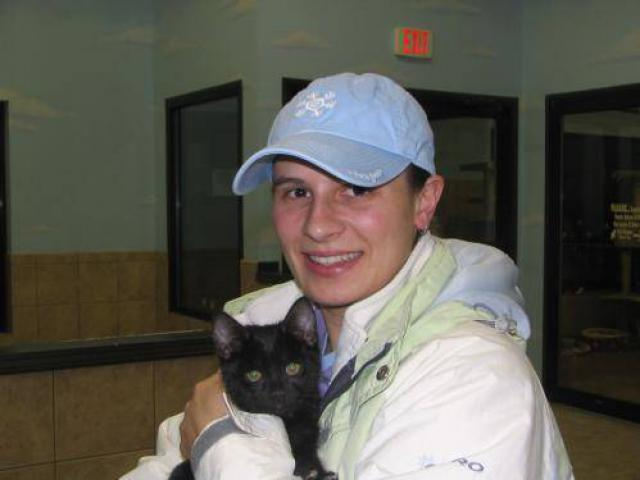cat: (191, 304, 332, 480)
